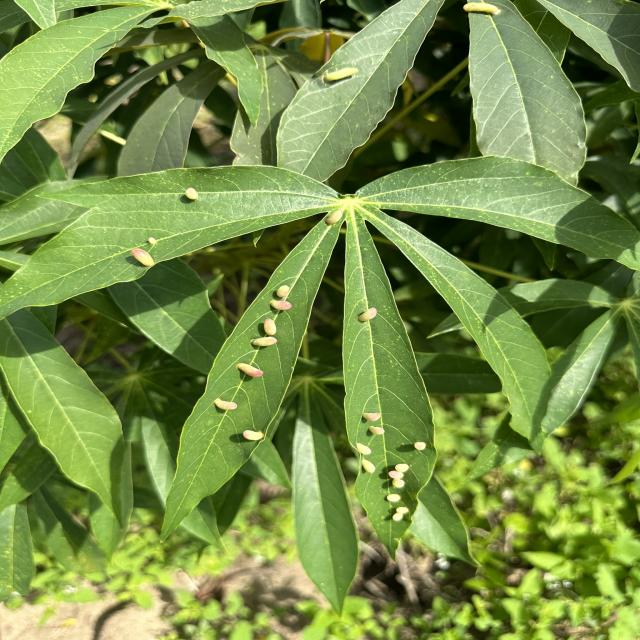Mosca: (378, 453, 424, 524), (309, 49, 369, 88), (257, 283, 314, 319), (164, 170, 217, 207), (355, 396, 393, 446), (223, 349, 274, 386), (344, 432, 382, 479), (125, 237, 168, 278), (460, 0, 519, 28), (243, 321, 284, 352), (351, 305, 387, 336), (209, 394, 242, 422), (321, 205, 351, 234), (405, 432, 436, 459), (236, 422, 267, 448)
